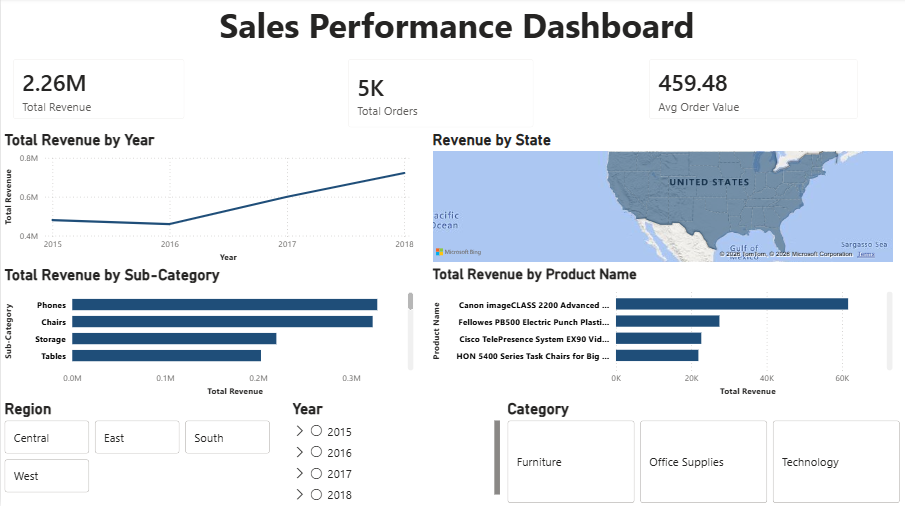

This screenshot's page, from the dashboard's own definition file:
{"tool":"powerbi","page":{"name":"Sales performance Dashboard","canvas":[1280,720],"ordinal":0},"visuals":[{"type":"cardVisual","fields":{"Data":["_Measures.Total Revenue"]},"box":[0,68.9,277.2,119.3],"z":3},{"type":"cardVisual","fields":{"Data":["_Measures.Total Orders"]},"box":[475.4,68.9,297.3,131],"z":4},{"type":"cardVisual","fields":{"Data":["_Measures.Avg Order Value"]},"box":[902,68.9,330.9,119.3],"z":5},{"type":"lineChart","fields":{"Category":["DateTable.Date.Variation.Date Hierarchy.Year","DateTable.Date.Variation.Date Hierarchy.Quarter","DateTable.Date.Variation.Date Hierarchy.Month","DateTable.Date.Variation.Date Hierarchy.Day"],"Y":["_Measures.Total Revenue"]},"box":[0,188.5,589.6,191.3],"z":6},{"type":"filledMap","title":"Revenue by State","fields":{"Category":["train.State"]},"box":[606.6,188.5,661.9,191.3],"z":7},{"type":"clusteredBarChart","fields":{"Category":["train.Sub-Category"],"Y":["_Measures.Total Revenue"]},"box":[0,379.8,589.6,189.9],"z":8},{"type":"clusteredBarChart","fields":{"Category":["train.Product Name"],"Y":["_Measures.Total Revenue"]},"box":[606.6,379.8,661.9,189.9],"z":9},{"type":"advancedSlicerVisual","fields":{"Values":["train.Region"]},"box":[0,569.4,388,136.1],"z":10},{"type":"advancedSlicerVisual","fields":{"Values":["train.Category"]},"box":[712.2,569.4,567.8,151.2],"z":11},{"type":"listSlicer","fields":{"Values":["DateTable.Date.Variation.Date Hierarchy.Year","DateTable.Date.Variation.Date Hierarchy.Quarter","DateTable.Date.Variation.Date Hierarchy.Month","DateTable.Date.Variation.Date Hierarchy.Day"]},"box":[408.2,569.4,304,151.2],"z":12},{"type":"textbox","box":[277.2,0,811.3,82.3],"z":13}]}

Visuals, with their boxes in screenshot pixels (x1, y1, x2, y2), scaled from the page's 1280x720 canvas onto the 905x506 screenshot:
cardVisual - _Measures.Total Revenue: (0,48,196,132)
cardVisual - _Measures.Total Orders: (336,48,546,140)
cardVisual - _Measures.Avg Order Value: (638,48,872,132)
lineChart - DateTable.Date.Variation.Date Hierarchy.Year x DateTable.Date.Variation.Date Hierarchy.Quarter: (0,132,417,267)
"Revenue by State" filledMap: (429,132,897,267)
clusteredBarChart - train.Sub-Category x _Measures.Total Revenue: (0,267,417,400)
clusteredBarChart - train.Product Name x _Measures.Total Revenue: (429,267,897,400)
advancedSlicerVisual - train.Region: (0,400,274,496)
advancedSlicerVisual - train.Category: (504,400,904,505)
listSlicer - DateTable.Date.Variation.Date Hierarchy.Year x DateTable.Date.Variation.Date Hierarchy.Quarter: (289,400,504,505)
textbox: (196,0,770,58)
